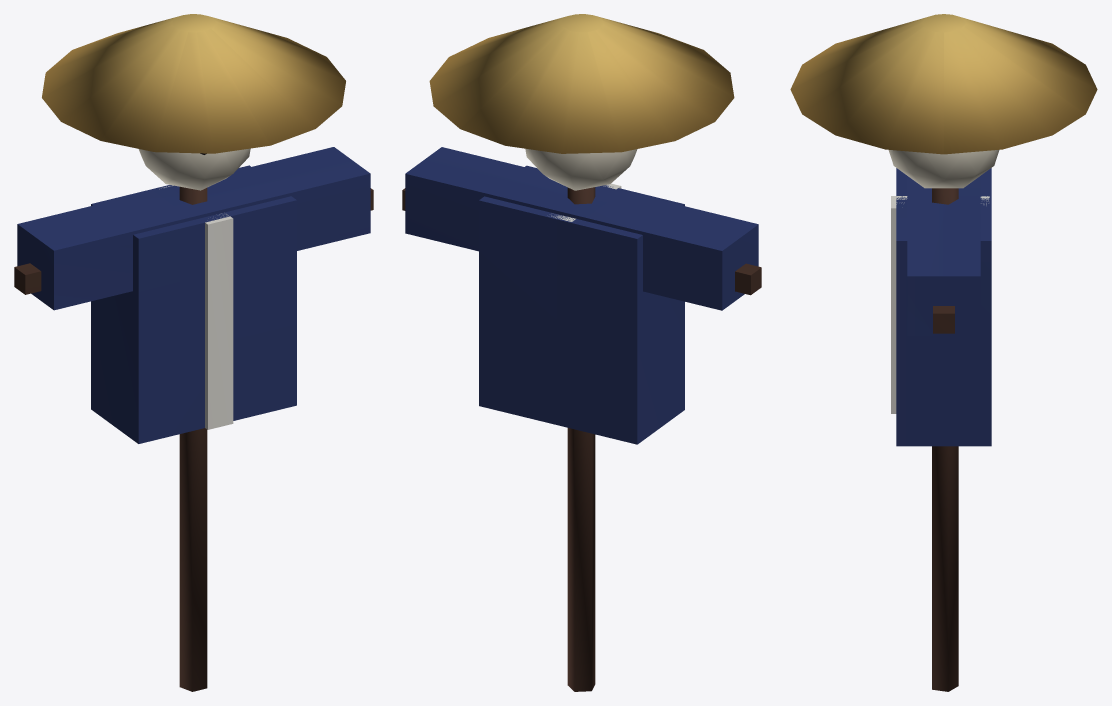
File: scarecrow.glb
The picture shows the model from 3 angles, left to right: view 1: azimuth 30°, elevation 25°; view 2: azimuth 150°, elevation 25°; view 3: azimuth 270°, elevation 25°; orthographic projection.
Parts seen in each view (by area): view 1: Scarecrow; view 2: Scarecrow; view 3: Scarecrow.
Part boxes in pixels (x1,y1,x2,y2): Scarecrow: (14,14,373,691); Scarecrow: (402,14,761,691); Scarecrow: (790,14,1097,691).
Bounding box in the file's own units: 1.1 × 2 × 0.84.
